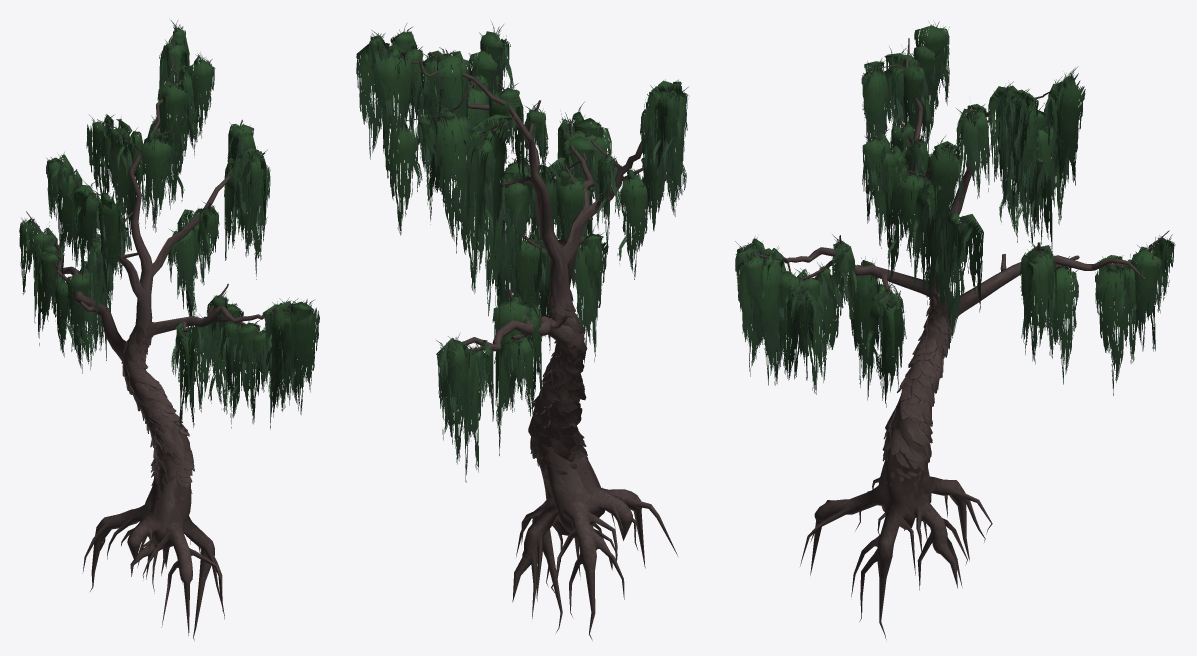
The picture shows the model from 3 angles, left to right: view 1: azimuth 30°, elevation 25°; view 2: azimuth 150°, elevation 25°; view 3: azimuth 270°, elevation 25°; orthographic projection. The views are drawn at different scales.
Parts seen in each view (by area): view 1: SM_SwampTree_05_LOD0; view 2: SM_SwampTree_05_LOD0; view 3: SM_SwampTree_05_LOD0.
Part boxes in pixels (<box>): SM_SwampTree_05_LOD0: <box>19,20,319,640</box>; SM_SwampTree_05_LOD0: <box>356,21,689,640</box>; SM_SwampTree_05_LOD0: <box>735,20,1175,639</box>.
Size of the model in its own units: 6.85 by 15.56 by 10.5.
Materials: 2 (2 with a texture image).
